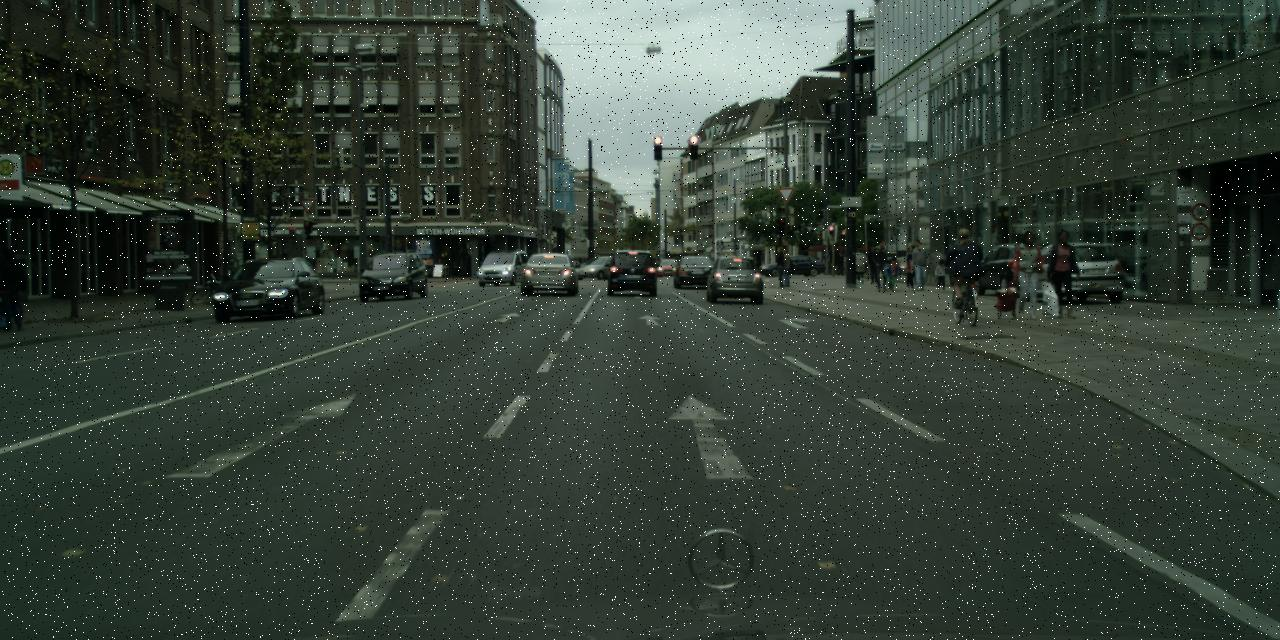ped: (1010, 231, 1046, 318), (1047, 230, 1082, 318), (0, 250, 28, 330), (950, 228, 979, 300), (908, 238, 928, 290), (871, 240, 891, 289), (772, 247, 788, 287), (904, 245, 920, 283), (778, 250, 793, 286), (852, 248, 867, 282), (866, 246, 880, 282), (886, 258, 899, 290), (934, 260, 947, 290), (835, 250, 845, 274)
